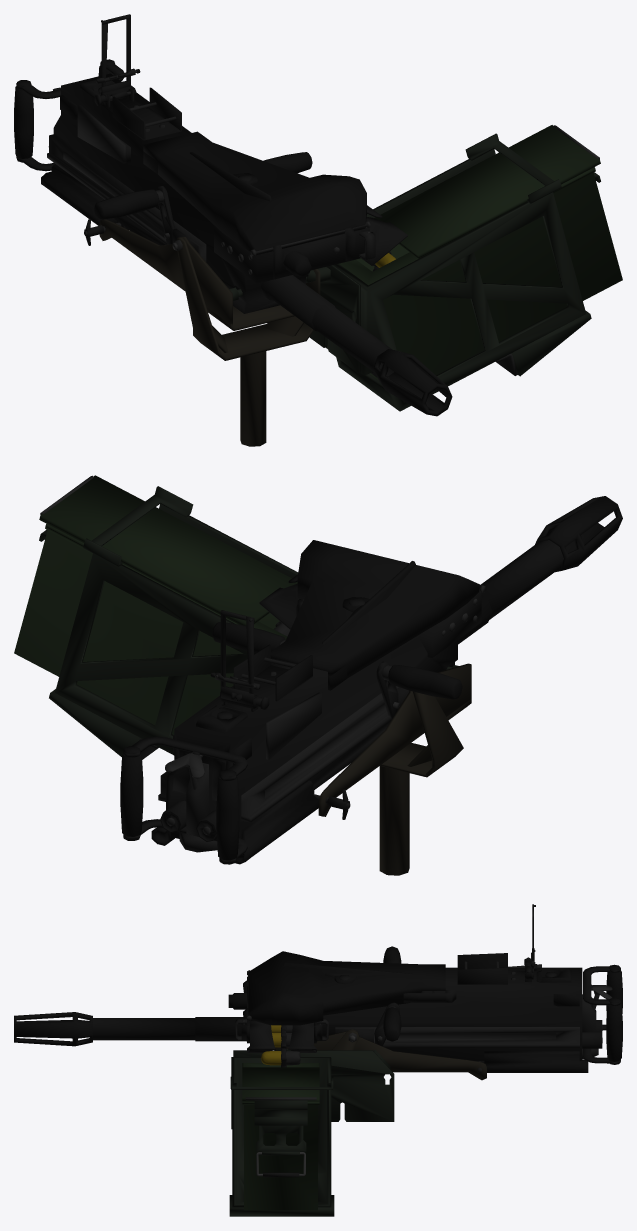
The picture shows the model from 3 angles, top to bottom: view 1: azimuth 30°, elevation 25°; view 2: azimuth 150°, elevation 25°; view 3: azimuth 270°, elevation 25°; orthographic projection. The views are drawn at different scales.
Parts seen in each view (by area): view 1: MK19_Base_0-Mat; view 2: MK19_Base_0-Mat; view 3: MK19_Base_0-Mat.
Boxes of the visible parts, <box> form: MK19_Base_0-Mat: <box>14,14,622,446</box>; MK19_Base_0-Mat: <box>14,475,622,875</box>; MK19_Base_0-Mat: <box>14,904,622,1216</box>.
Bounding box in the file's own units: 15.58 × 11.09 × 23.43.
1 material, 1 textured.
